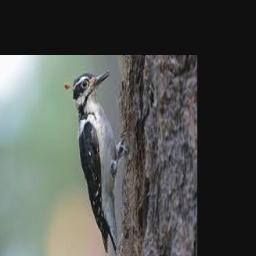Woodpecker: (64, 71, 127, 256)
